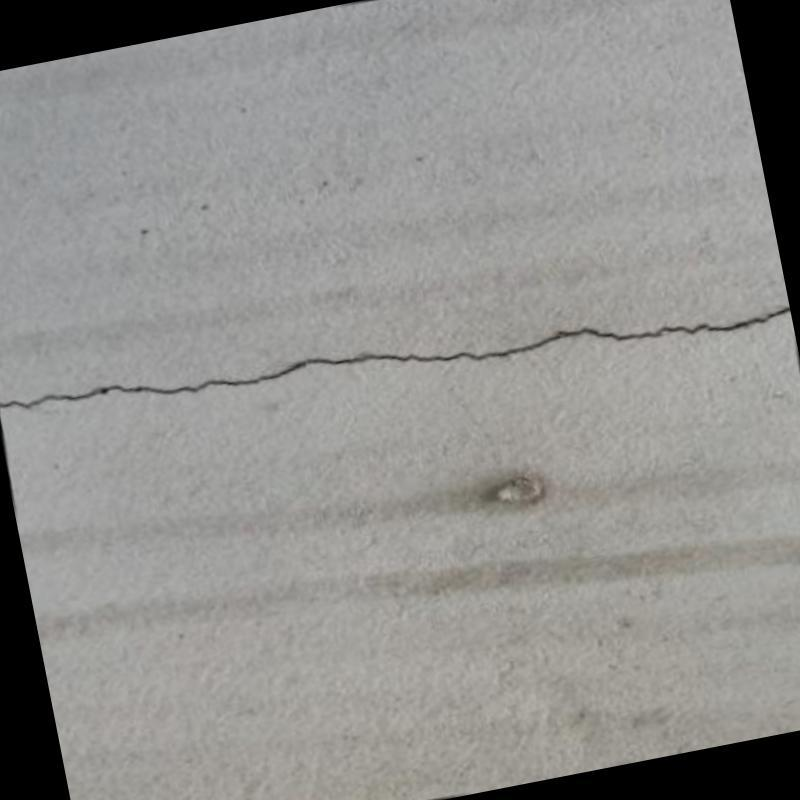pothole: (0, 304, 791, 411)
